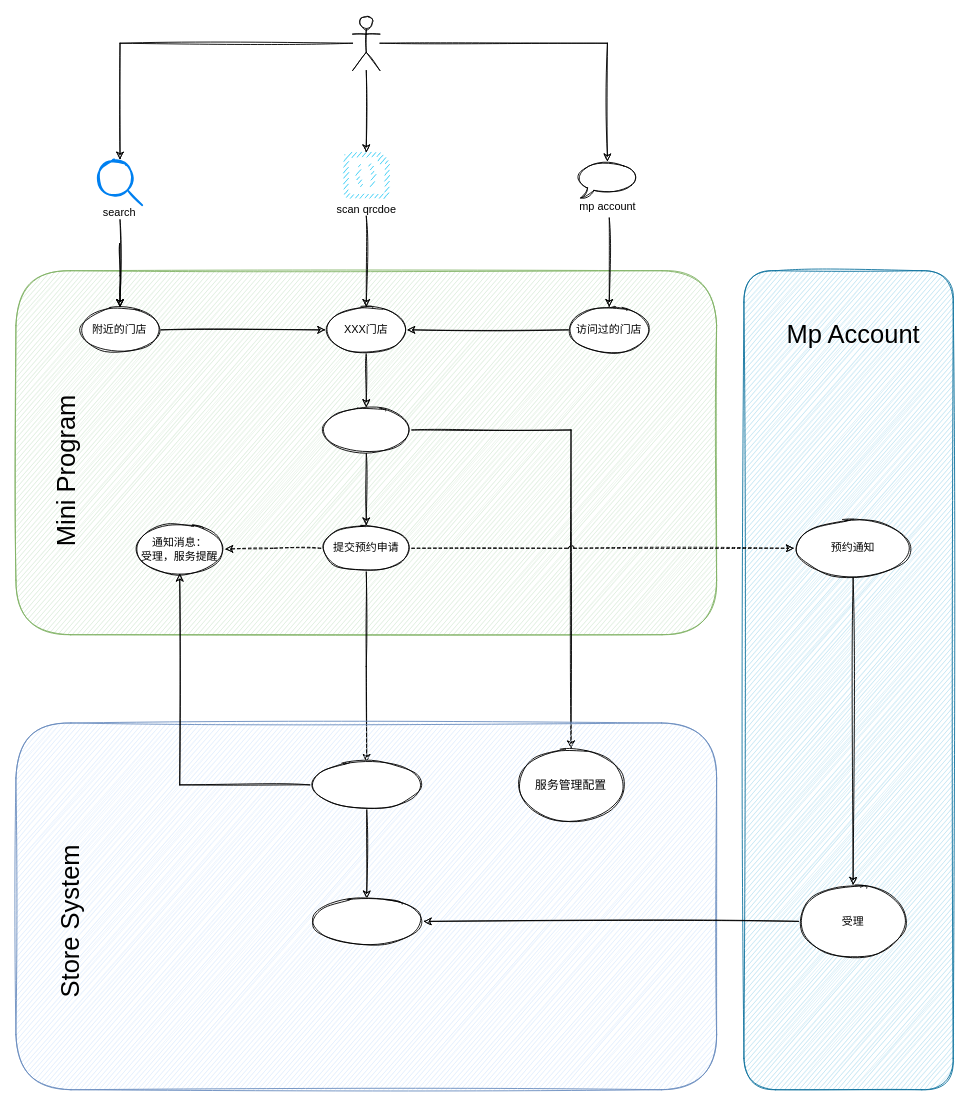
Image size: 969x1106. Some labels were removed from this diagram. The box of each missing label's shape, as (x1, y1, x2, y2) in pixels:
Actor: (352, 15, 380, 71)
待办管理: (309, 898, 424, 944)
服务项目，时间: (320, 406, 412, 453)
预约受理: (309, 761, 424, 808)
